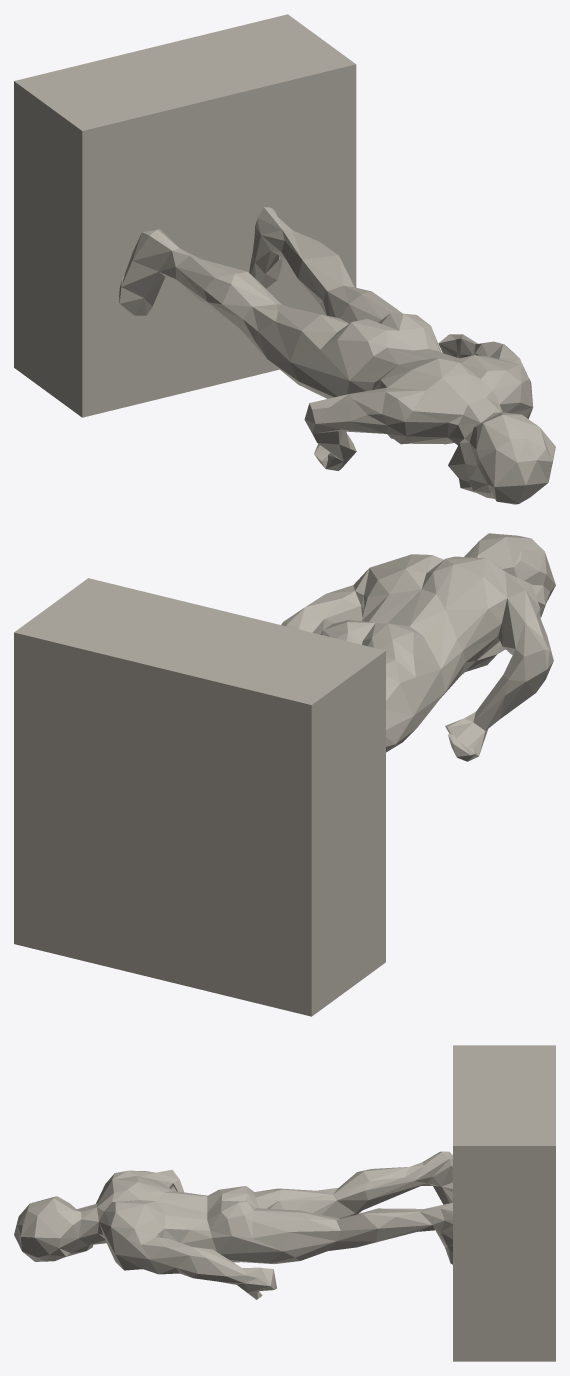
3 views of the same model, one above another, from view 1: azimuth 30°, elevation 25°; view 2: azimuth 150°, elevation 25°; view 3: azimuth 270°, elevation 25° (orthographic). The views are drawn at different scales.
Size of the model in its own units: 0.906 by 0.906 by 2.06.
